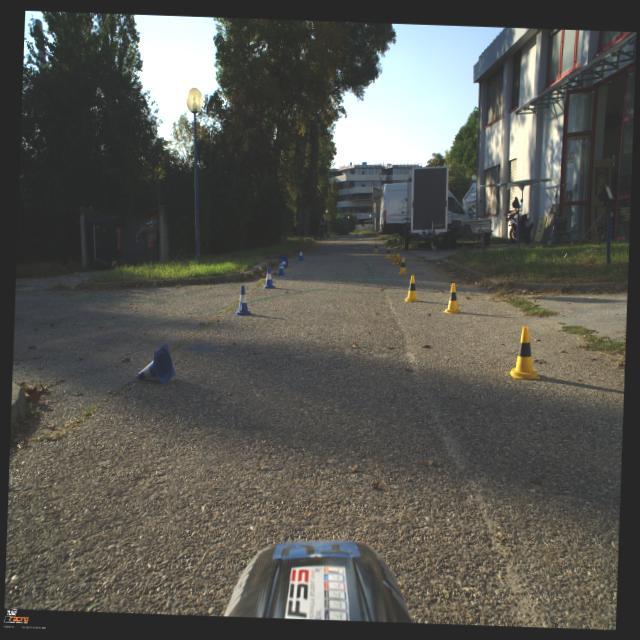blue_cone: (138, 343, 176, 384), (234, 285, 252, 316), (262, 266, 276, 288), (276, 258, 286, 276), (280, 256, 287, 267), (298, 248, 304, 260)
yellow_cone: (508, 325, 542, 379), (442, 282, 463, 313), (404, 274, 420, 302), (396, 256, 409, 274), (392, 253, 401, 264), (385, 246, 392, 258), (372, 242, 379, 252)
